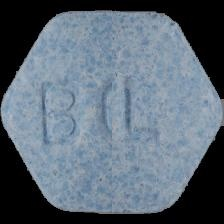66336-572: (0, 0, 224, 224)
